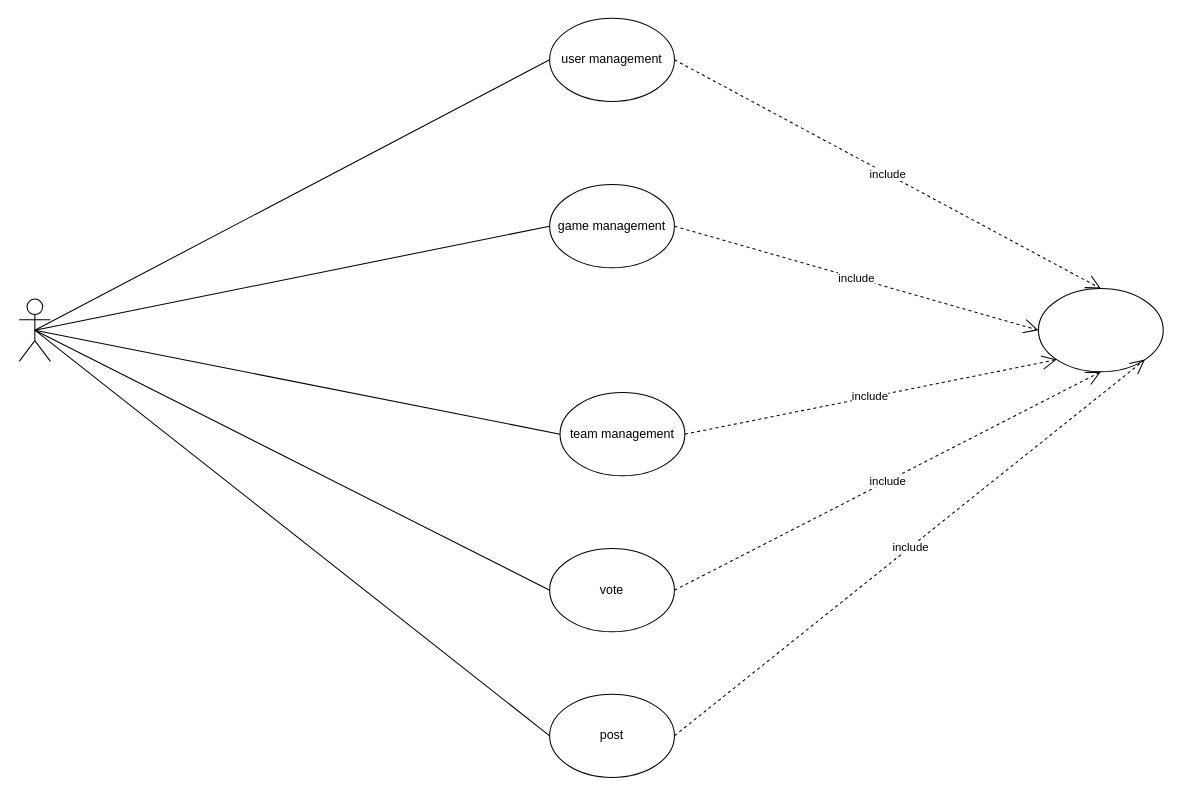
Some shapes in this 1181 by 796 pixel diagram are drawn without their labels. The shapes that lost their labels are listed below. From the top down, each one's centre as x and y in pixels, then its label:
At (34,329): "admin".
At (1100,330): "login".
